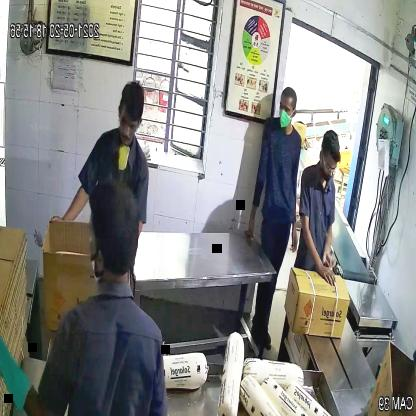goggles: (115, 111, 143, 136), (318, 153, 341, 177)
